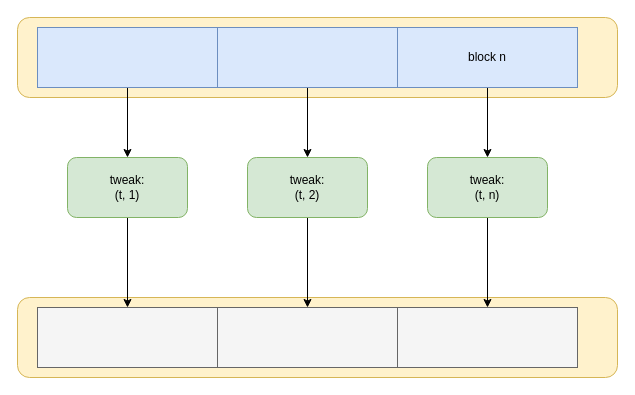
The diagram is 635 pixels wide and 395 high, and some of its shapes have lost their labels. Here are the shapes that lost their labels. From the top down, the centre of each, then its label:
At point 127,57: "block 1".
At point 307,57: "block 2".
